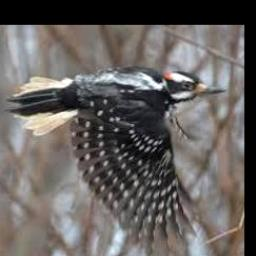Woodpecker: (6, 64, 225, 254)
